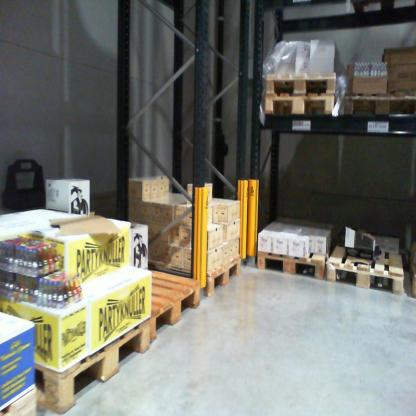pallet: (260, 3, 416, 96), (28, 312, 155, 415), (122, 249, 246, 303), (320, 229, 407, 303), (149, 270, 202, 355), (252, 235, 331, 285), (259, 87, 336, 117), (341, 88, 416, 117), (1, 381, 40, 415), (406, 240, 414, 298)
